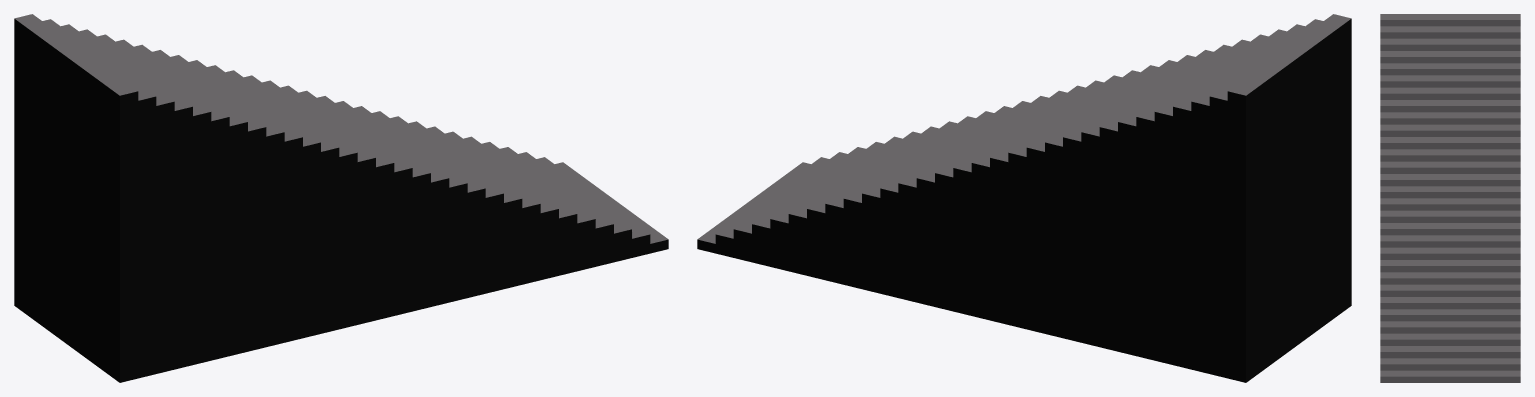
Rendered from Stairs.fbx.
3 views of the same model, side by side, from view 1: azimuth 30°, elevation 25°; view 2: azimuth 150°, elevation 25°; view 3: azimuth 270°, elevation 25° (orthographic). The views are drawn at different scales.
Visible parts, largest first — view 1: Stairs; view 2: Stairs; view 3: Stairs.
Boxes of the visible parts, x1,y1,x2,y2 form: Stairs: [14, 14, 668, 382]; Stairs: [697, 14, 1351, 382]; Stairs: [1380, 14, 1520, 382].
Size of the model in its own units: 600 by 300 by 200.
